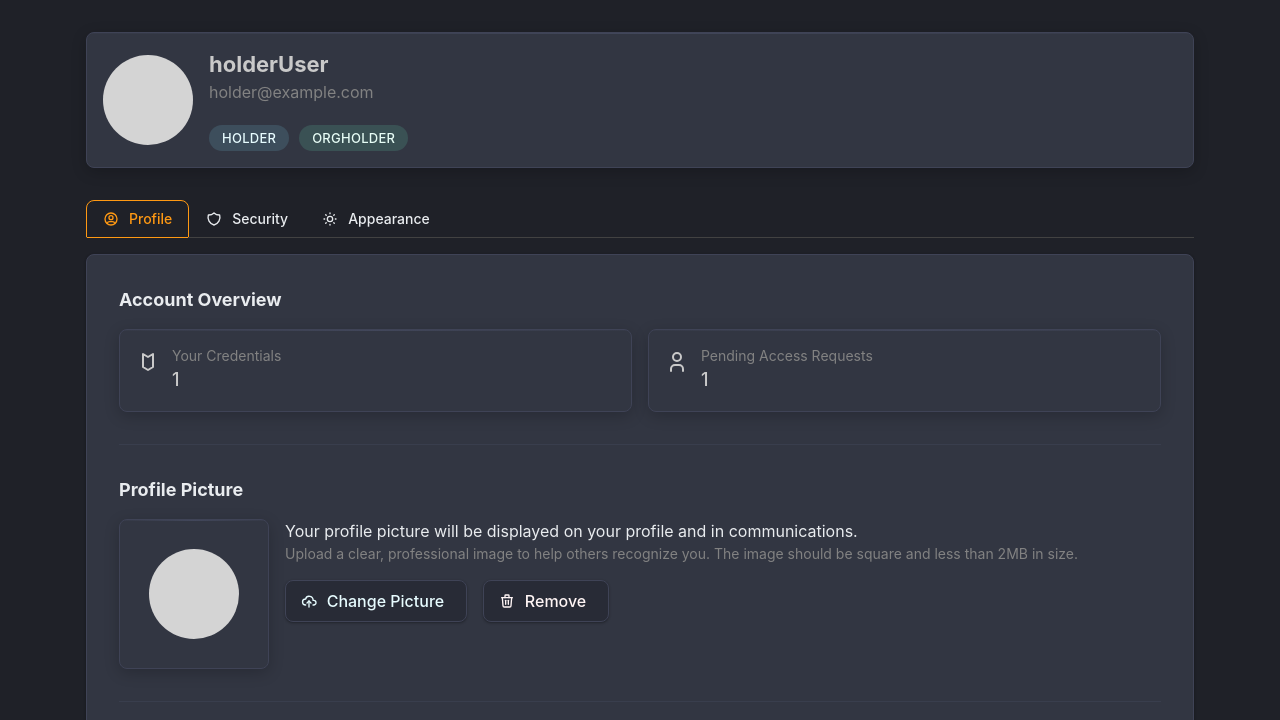
Scenario: Settings Page › shows setup 2FA interface for users without 2FA enabled
Click the tab "Security": x=247, y=219 [189,200,305,238]
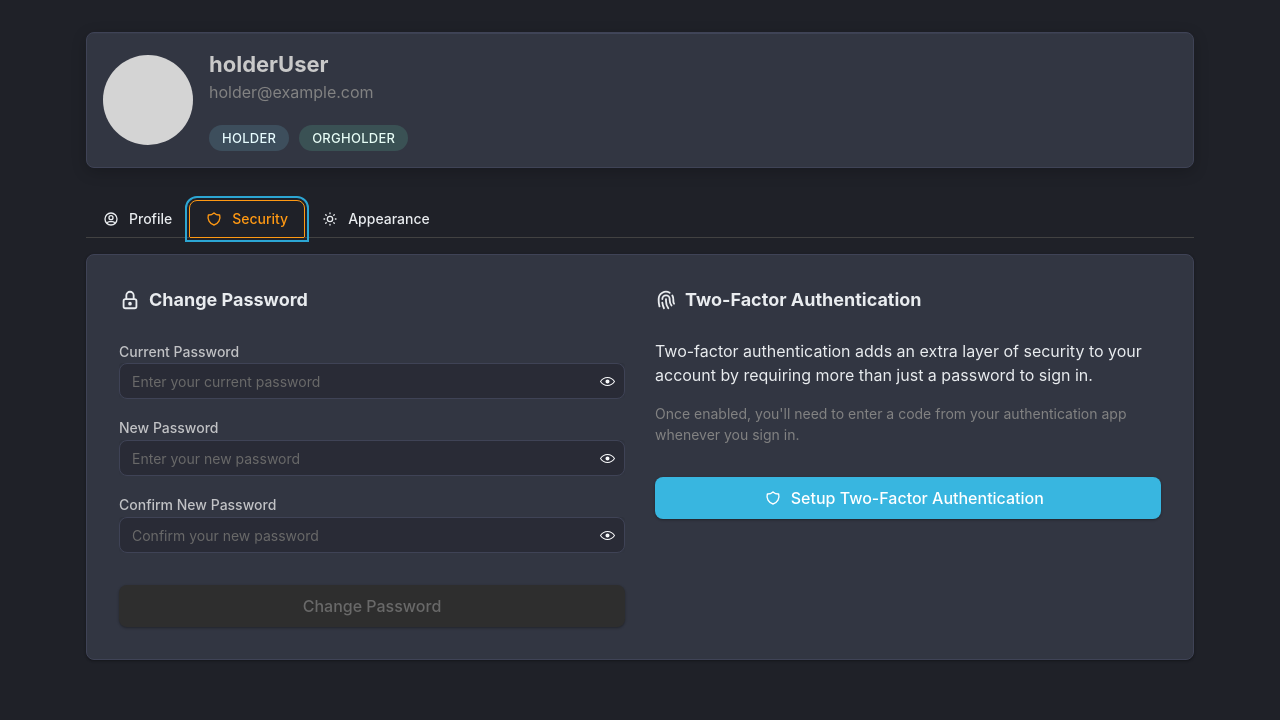
Expected: the text "adds an extra layer of security" is shown, [655,341,1142,386]
Expected: the button "Setup Two-Factor Authentication" is shown, [655,477,1161,519]
